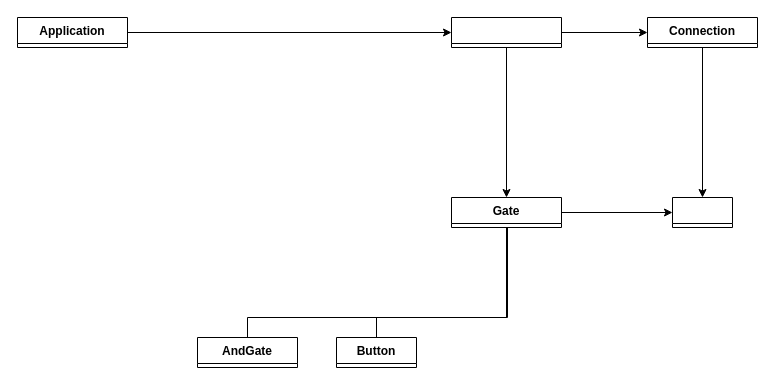
The diagram is 775 pixels wide and 385 high, and some of its shapes have lost their labels. The shapes that lost their labels are listed below. From the top down, each one's centre as x and y in pixels, then its label:
At (x=506, y=32): "GateHandler".
At (x=702, y=212): "Pin".
